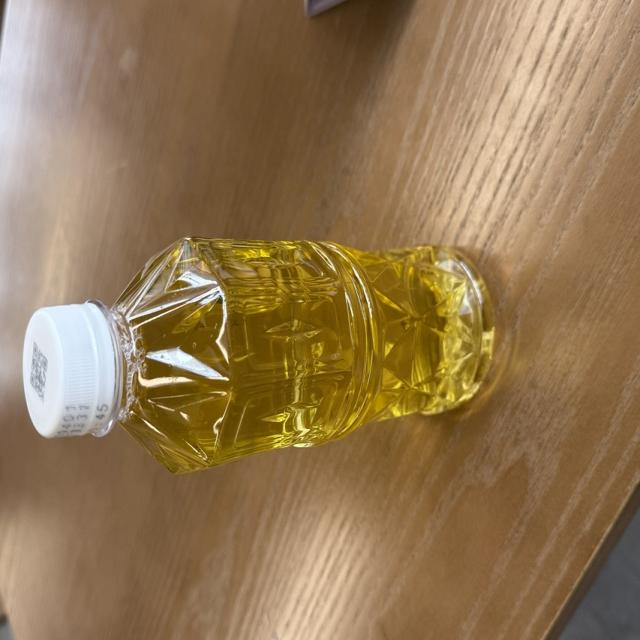high: (23, 237, 493, 472)
